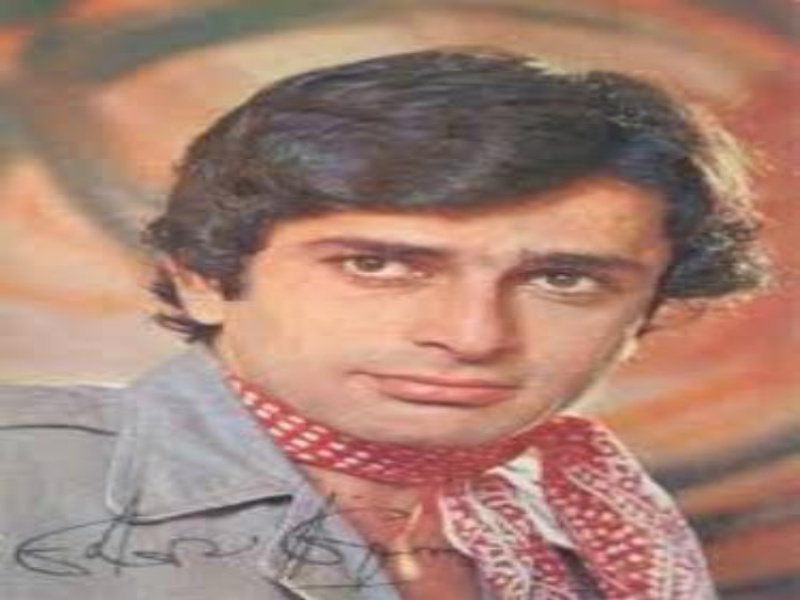TsisyArotava: (172, 67, 719, 487)
